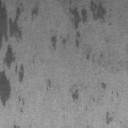red iron: (0, 0, 24, 106), (70, 0, 106, 48), (50, 36, 67, 50), (32, 2, 39, 16), (72, 90, 79, 102), (106, 112, 113, 124), (47, 79, 52, 88), (101, 82, 106, 89), (86, 54, 90, 60)
